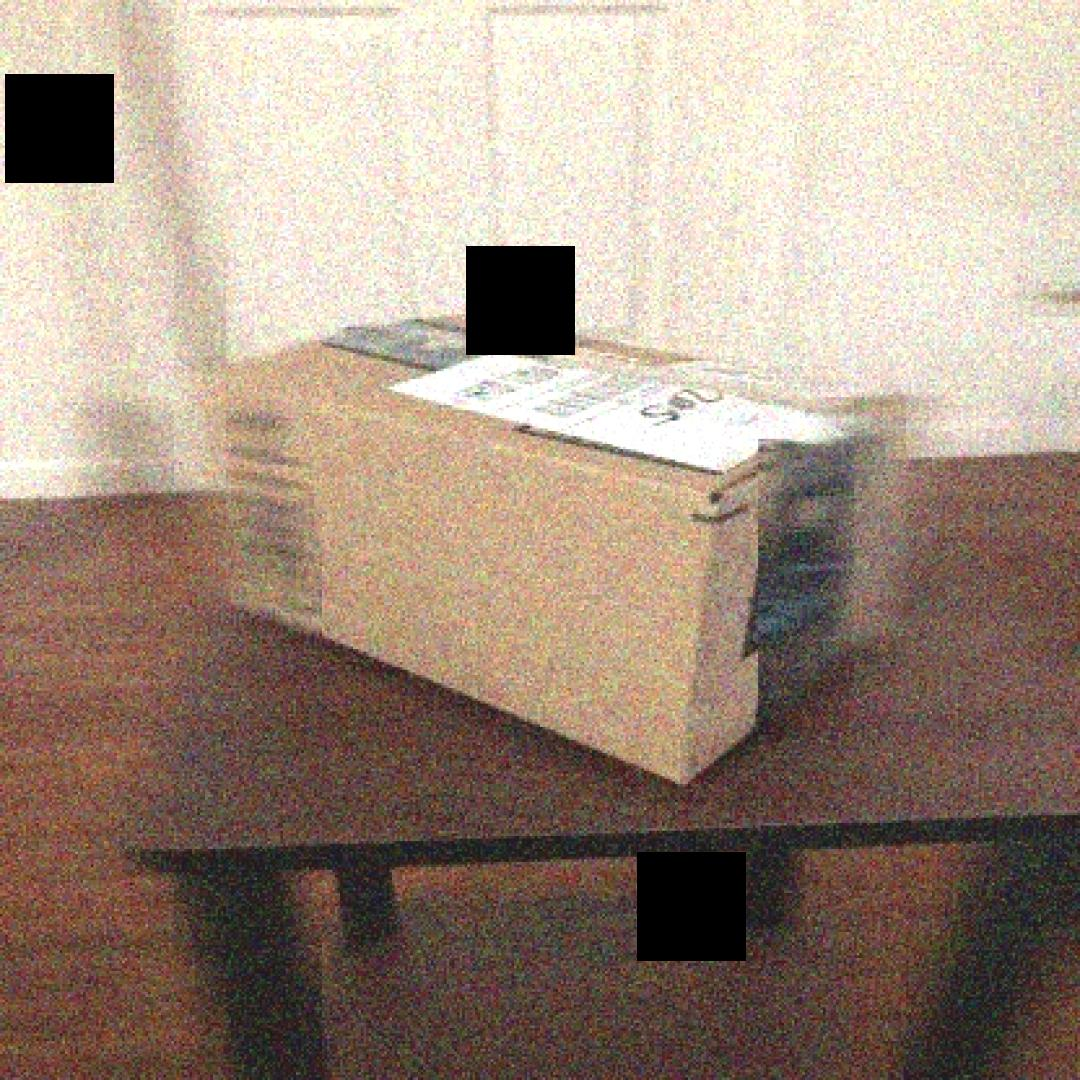package: (190, 307, 934, 802)
